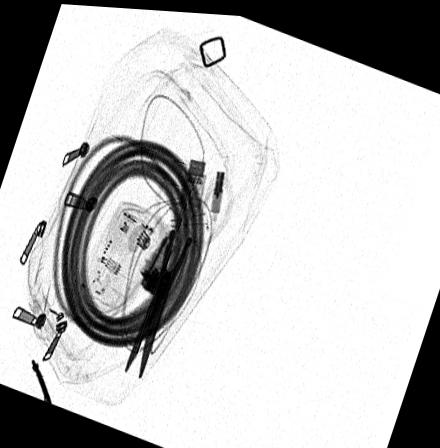Scissors: (122, 153, 237, 381)
